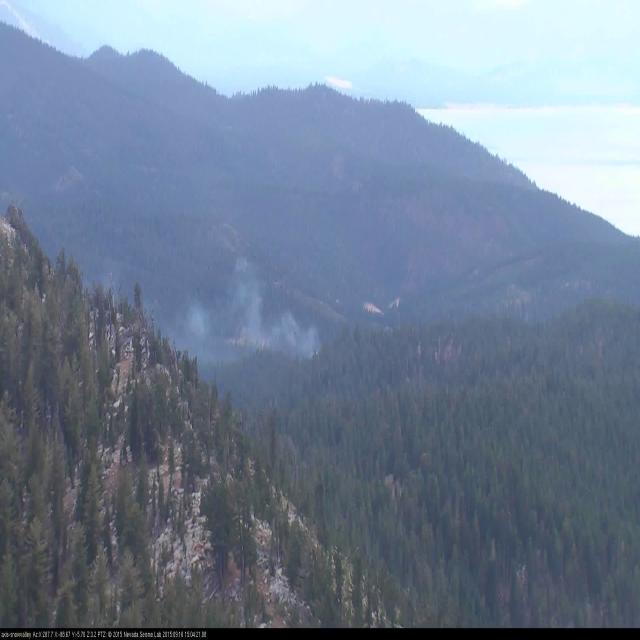smoke: (168, 244, 332, 375)
